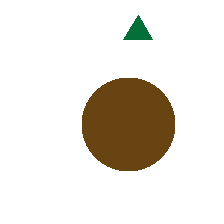circle: (82, 78, 174, 170)
triangle: (123, 15, 152, 39)
